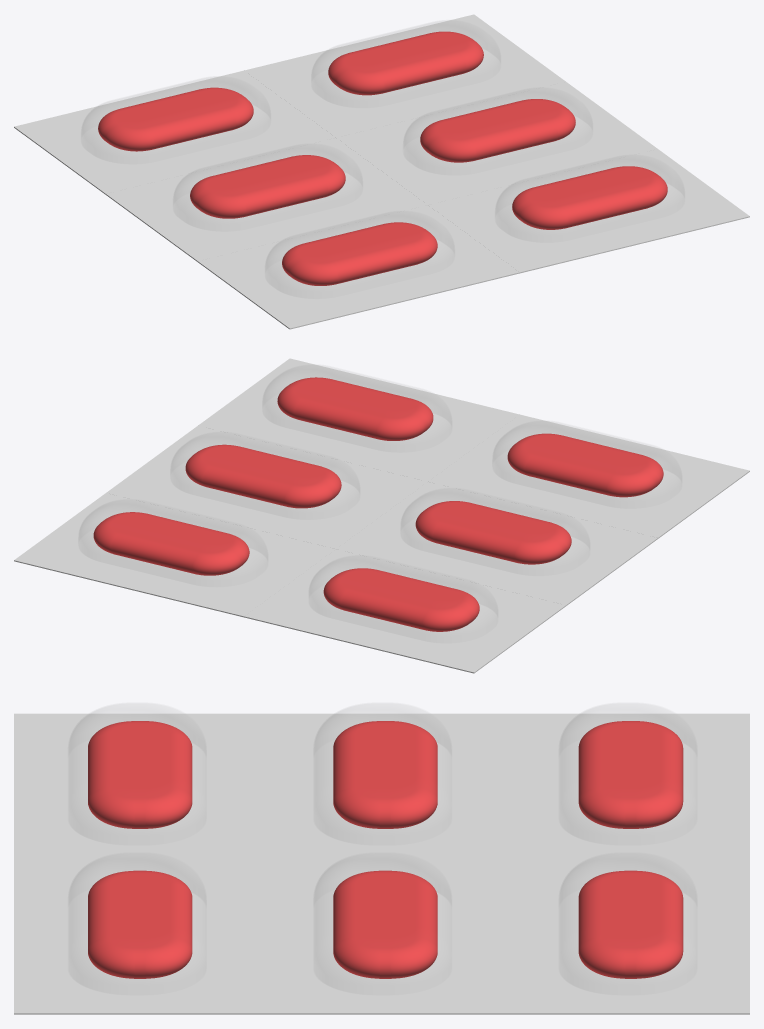
The model's file is Capsule_Pill_2x3_Red.glb.
3 renders of one model, top to bottom at view 1: azimuth 30°, elevation 25°; view 2: azimuth 150°, elevation 25°; view 3: azimuth 270°, elevation 25°, orthographic. The views are drawn at different scales.
Parts seen in each view (by area): view 1: Capsule_Pill_Base_2x3, Capsule_Pill_2x3, Capsule_Pill_Lid_2x3, Capsule_Pill_Shell_2x3; view 2: Capsule_Pill_Base_2x3, Capsule_Pill_2x3, Capsule_Pill_Lid_2x3, Capsule_Pill_Shell_2x3; view 3: Capsule_Pill_Base_2x3, Capsule_Pill_2x3, Capsule_Pill_Lid_2x3, Capsule_Pill_Shell_2x3.
Part boxes in pixels (x1,y1,x2,y2): Capsule_Pill_Base_2x3: (14, 14, 749, 329); Capsule_Pill_2x3: (98, 31, 667, 285); Capsule_Pill_Lid_2x3: (80, 48, 685, 299); Capsule_Pill_Shell_2x3: (81, 20, 684, 271); Capsule_Pill_Base_2x3: (14, 358, 749, 673); Capsule_Pill_2x3: (93, 377, 663, 631); Capsule_Pill_Lid_2x3: (78, 393, 682, 643); Capsule_Pill_Shell_2x3: (78, 365, 681, 616); Capsule_Pill_Base_2x3: (14, 713, 749, 1014); Capsule_Pill_2x3: (88, 721, 683, 978); Capsule_Pill_Lid_2x3: (67, 739, 697, 995); Capsule_Pill_Shell_2x3: (68, 703, 696, 905).
Bounding box in the file's own units: 6.8 × 0.4666 × 7.06.
